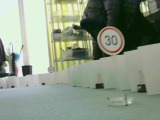speed_30: (97, 26, 124, 55)
